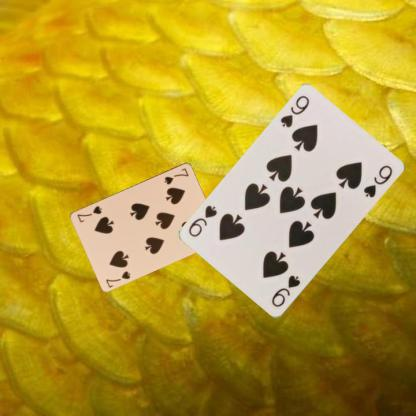7s: (103, 268, 132, 288), (162, 166, 190, 186)
9s: (277, 93, 311, 129), (269, 273, 302, 309)
